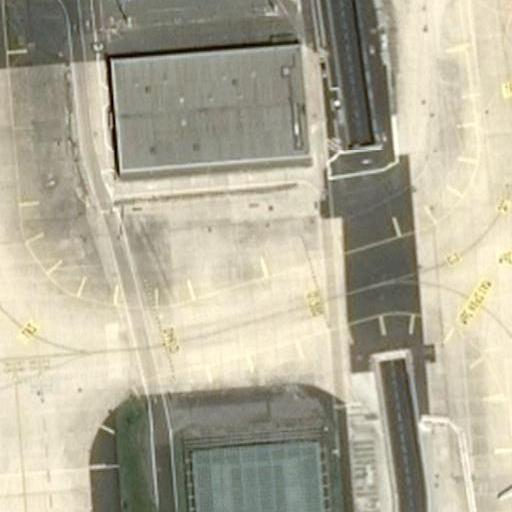Aircraft: (497, 435, 512, 512)
